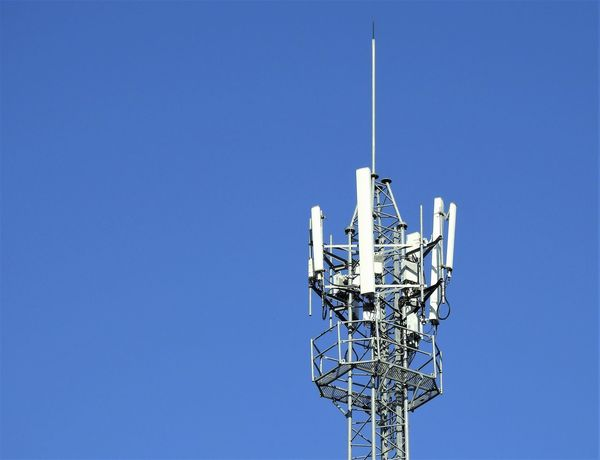a: (356, 167, 378, 294), (308, 208, 329, 280), (446, 202, 458, 278)
